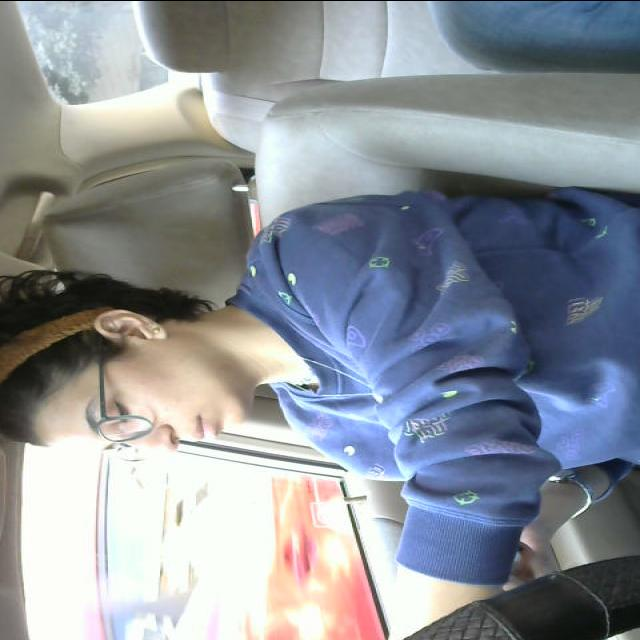mobile use: (418, 538, 554, 614)
